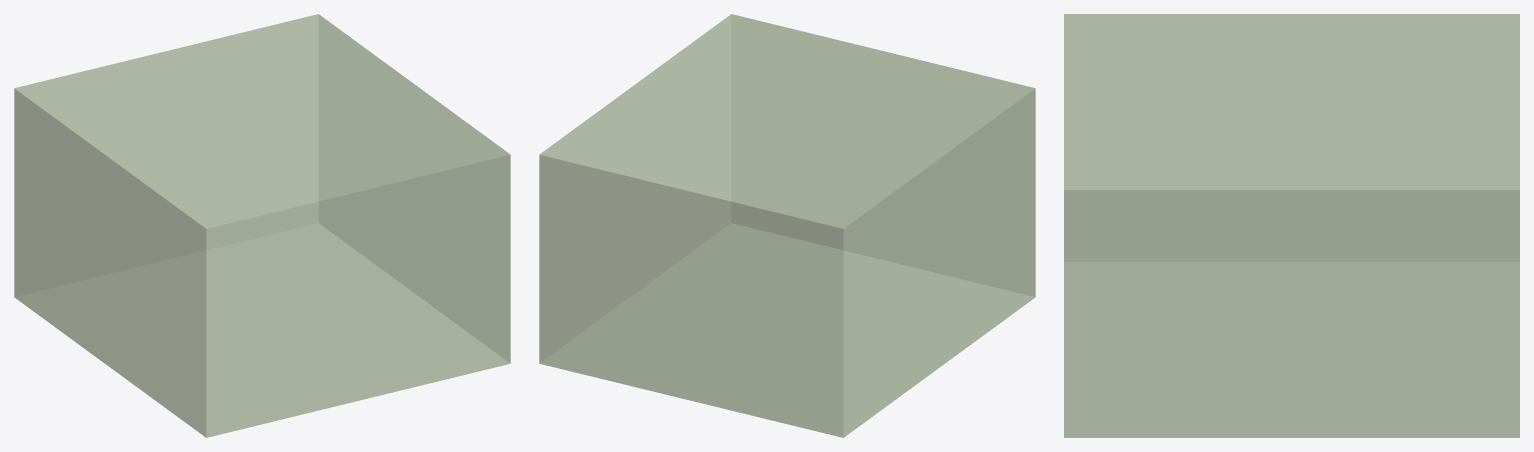
Rendered from blockout.glb.
3 renders of one model, left to right at view 1: azimuth 30°, elevation 25°; view 2: azimuth 150°, elevation 25°; view 3: azimuth 270°, elevation 25°, orthographic. The views are drawn at different scales.
Parts seen in each view (by area): view 1: U12_ENVELOPE_NOT_FINAL_MESH; view 2: U12_ENVELOPE_NOT_FINAL_MESH; view 3: U12_ENVELOPE_NOT_FINAL_MESH.
Boxes of the visible parts, box(x1,y1,x2,y2) form: U12_ENVELOPE_NOT_FINAL_MESH: box(14, 14, 510, 437); U12_ENVELOPE_NOT_FINAL_MESH: box(539, 14, 1035, 437); U12_ENVELOPE_NOT_FINAL_MESH: box(1064, 14, 1519, 437).
Size of the model in its own units: 3.2 by 2.1 by 3.5.
